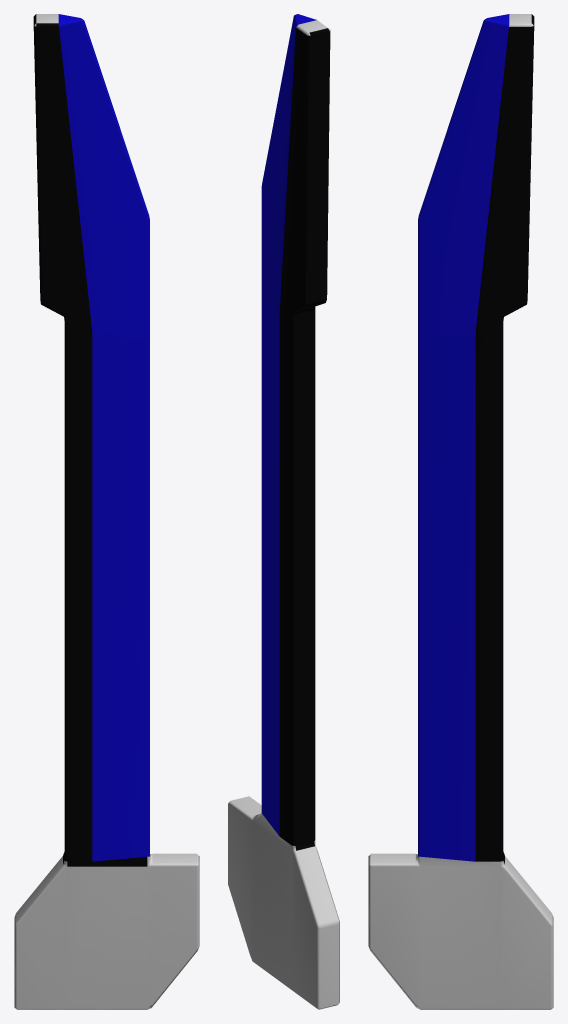
File: Sword_A.fbx
The picture shows the model from 3 angles, left to right: view 1: azimuth 90°, elevation 25°; view 2: azimuth 210°, elevation 25°; view 3: azimuth 270°, elevation 25°; orthographic projection.
Visible parts, largest first — view 1: Sword_A; view 2: Sword_A; view 3: Sword_A.
Part boxes in pixels (left/top/right/bottom): Sword_A: left=14, top=14, right=199, bottom=1009; Sword_A: left=228, top=14, right=339, bottom=1009; Sword_A: left=368, top=14, right=553, bottom=1009.
Bounding box in the file's own units: 5.92 × 235 × 39.94.
